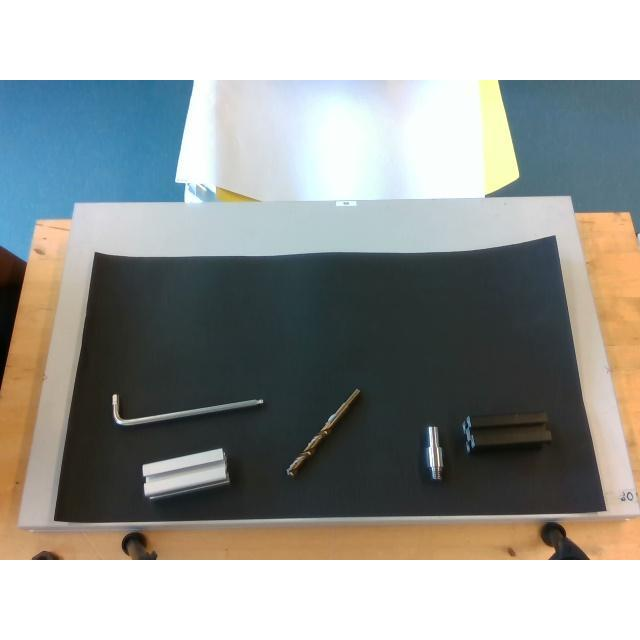AllenKey: (112, 394, 264, 426)
Axis2: (424, 426, 444, 480)
Drill: (286, 388, 360, 477)
S40_40_B: (463, 412, 551, 452)
S40_40_G: (143, 449, 230, 499)
